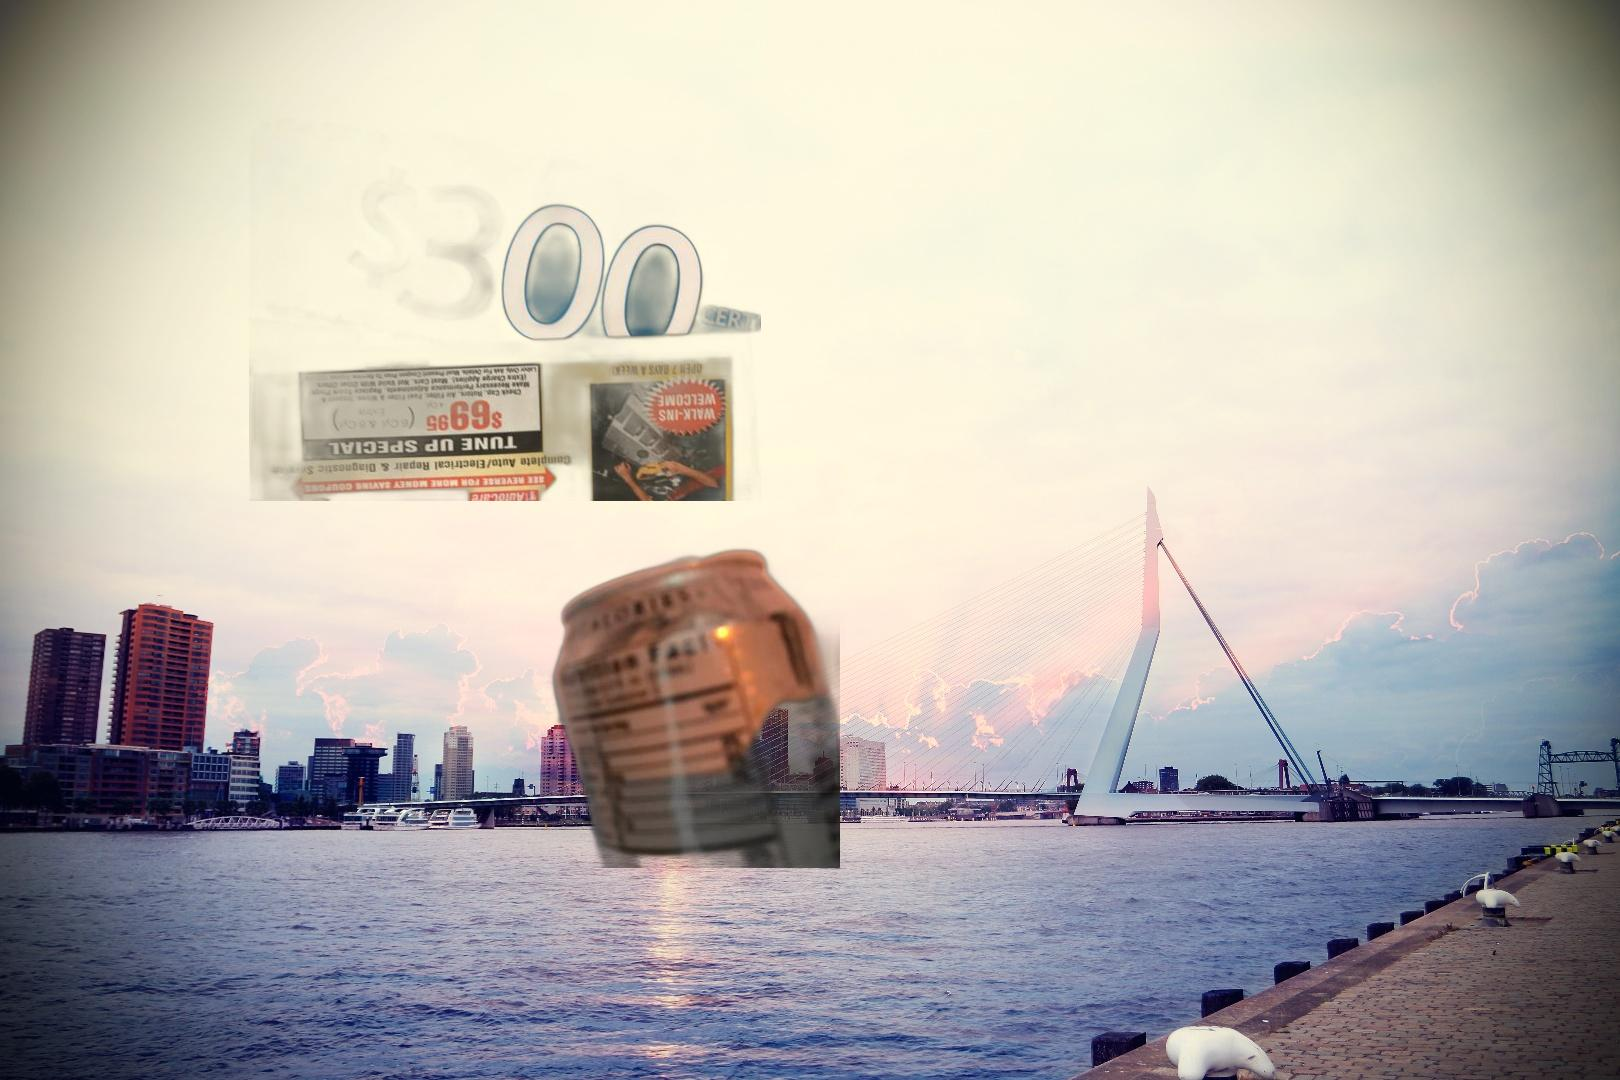metal-cans: (547, 544, 840, 868)
paper: (250, 117, 761, 501)
